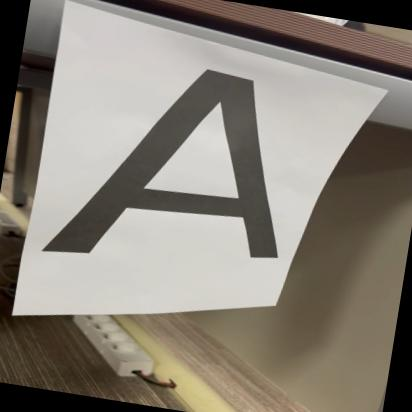seat: (29, 34, 320, 290)
